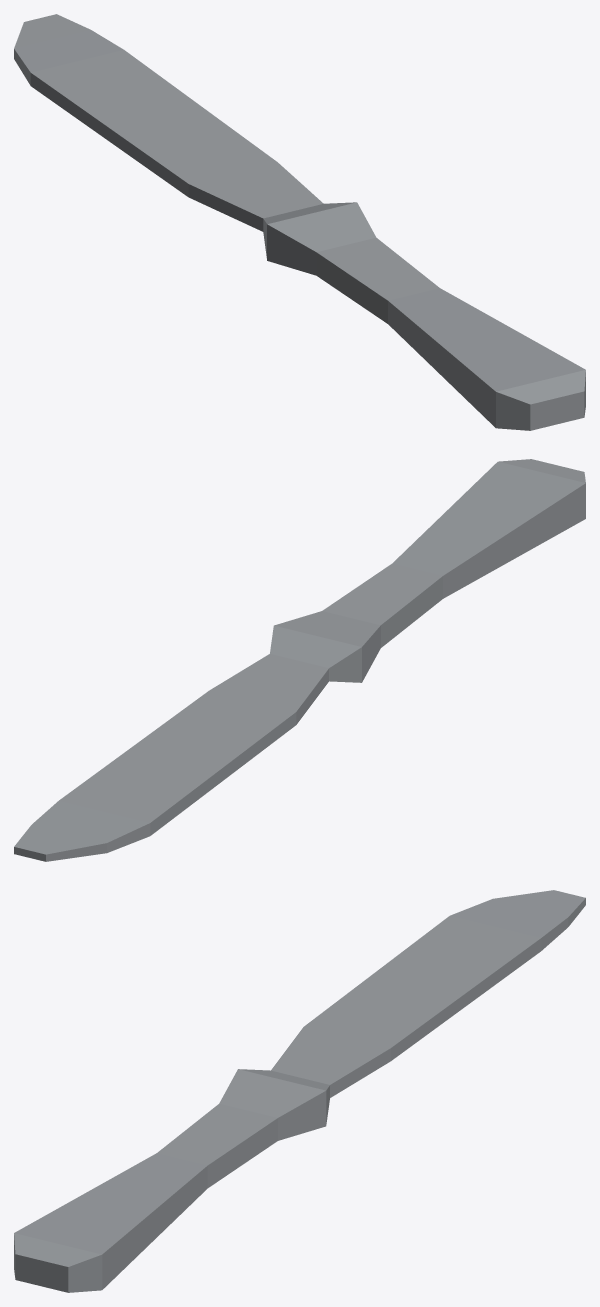
Rendered from SM_Item_Cutlery_Knife_01.fbx.
3 views of the same model, one above another, from view 1: azimuth 30°, elevation 25°; view 2: azimuth 150°, elevation 25°; view 3: azimuth 330°, elevation 25° (orthographic). The views are drawn at different scales.
Parts seen in each view (by area): view 1: SM_Item_Cutlery_Knife_01; view 2: SM_Item_Cutlery_Knife_01; view 3: SM_Item_Cutlery_Knife_01.
Part boxes in pixels (bbox=[...]): SM_Item_Cutlery_Knife_01: bbox=[14, 14, 585, 430]; SM_Item_Cutlery_Knife_01: bbox=[14, 459, 585, 861]; SM_Item_Cutlery_Knife_01: bbox=[14, 890, 585, 1292].
Bounding box in the file's own units: 3.84 × 1.34 × 35.05.
